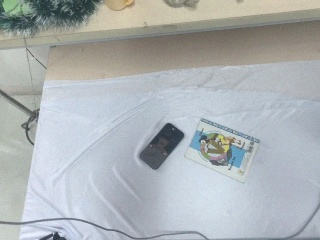book: (183, 117, 261, 184)
phone: (139, 122, 185, 170)
